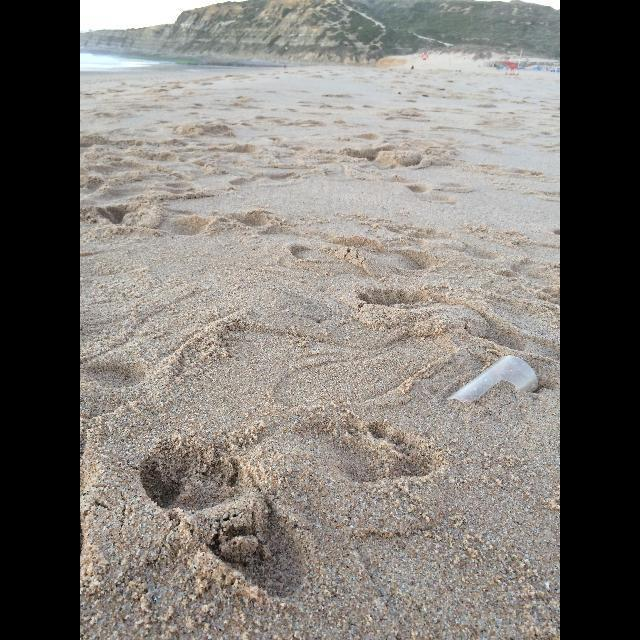Plastic: (447, 356, 538, 402)
